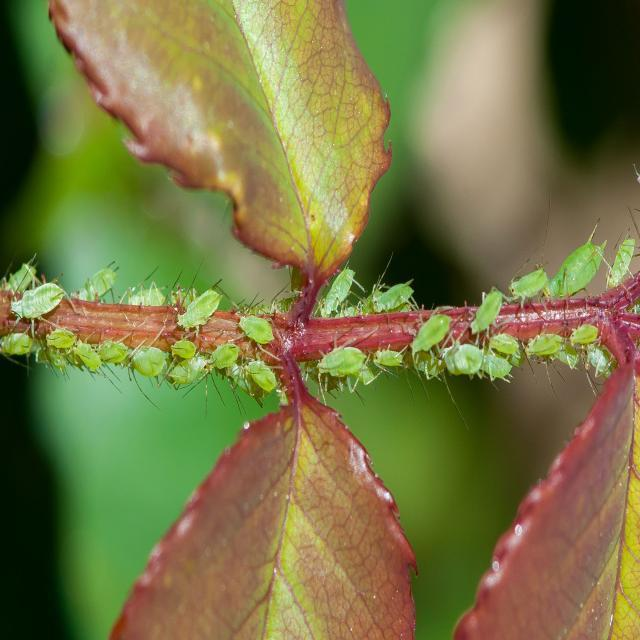Aphids: (545, 224, 611, 311), (309, 336, 372, 396), (499, 242, 550, 314), (366, 274, 424, 330), (442, 327, 491, 388), (402, 310, 455, 362), (470, 270, 511, 337), (170, 328, 207, 402), (123, 340, 172, 395), (309, 256, 355, 312), (171, 287, 224, 335), (230, 305, 276, 351), (242, 363, 284, 411), (205, 338, 247, 384), (371, 327, 408, 379), (562, 326, 611, 364), (521, 331, 563, 373)
